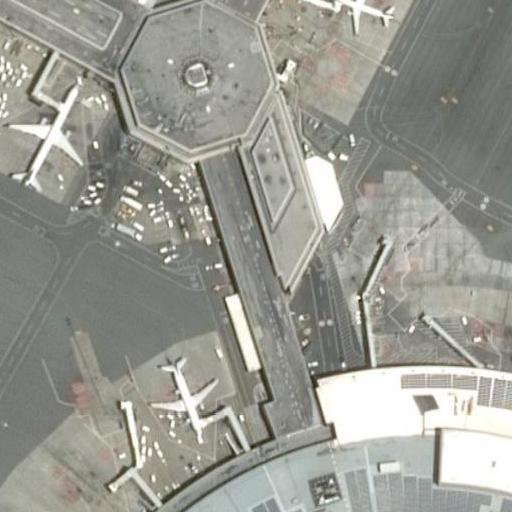Aircraft: (0, 77, 92, 193), (147, 355, 221, 437), (326, 0, 395, 31)
